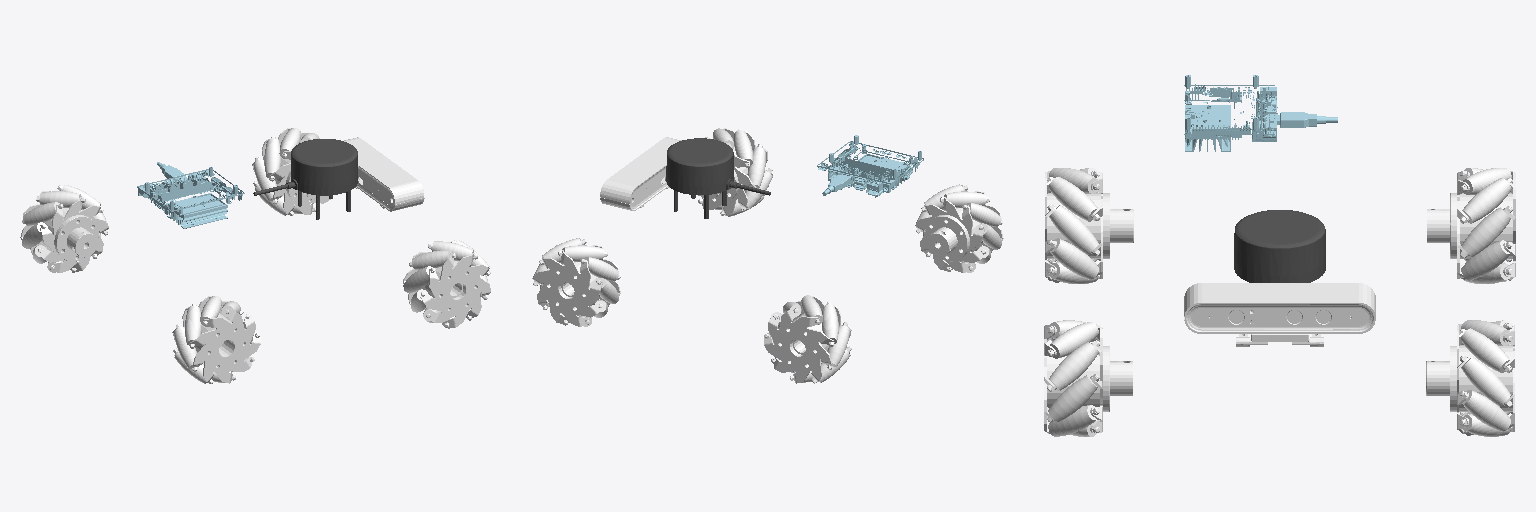
URDF robot description (senior_mec_bs_robot):
<?xml version="1.0" encoding="utf-8"?>
<!-- This URDF was automatically created by SolidWorks to URDF Exporter! Originally created by [author] ([email redacted]) 
     Commit Version: 1.6.0-4-g7f85cfe  Build Version: 1.6.7995.38578
     For more information, please see http://wiki.ros.org/sw_urdf_exporter -->
<robot
  name="senior_mec_bs_robot">
  <link
    name="base_link">
    <inertial>
      <origin
        xyz="-0.0434718540945225 0.00479096721747944 0.0616616740894804"
        rpy="0 0 0" />
      <mass
        value="2.16356623435247" />
      <inertia
        ixx="0.00457530939003441"
        ixy="2.66501329882188E-05"
        ixz="-1.68910168002872E-06"
        iyy="0.00742120437288696"
        iyz="-5.03454173208333E-08"
        izz="0.0114903919776487" />
    </inertial>
    <visual>
      <origin
        xyz="0 0 0"
        rpy="0 0 0" />
      <geometry>
        <mesh
          filename="package://wheeltec_robot_urdf/meshes/senior_mec_bs_robot_meshes/base_link.STL" />
      </geometry>
      <material
        name="">
        <color
          rgba="0.741176470588235 0.901960784313726 0.956862745098039 1" />
      </material>
    </visual>
    <collision>
      <origin
        xyz="0 0 0"
        rpy="0 0 0" />
      <geometry>
        <mesh
          filename="package://wheeltec_robot_urdf/meshes/senior_mec_bs_robot_meshes/base_link.STL" />
      </geometry>
    </collision>
  </link>
  <link
    name="lf_wheel_link">
    <inertial>
      <origin
        xyz="1.87283562189666E-05 -0.00416248539198538 -9.72421313388816E-07"
        rpy="0 0 0" />
      <mass
        value="0.223696874382644" />
      <inertia
        ixx="0.000160822017712014"
        ixy="4.9063134200795E-08"
        ixz="4.63711505038062E-09"
        iyy="0.000252355253681534"
        iyz="1.75497058836953E-08"
        izz="0.000160759030211795" />
    </inertial>
    <visual>
      <origin
        xyz="0 0 0"
        rpy="0 0 0" />
      <geometry>
        <mesh
          filename="package://wheeltec_robot_urdf/meshes/senior_mec_bs_robot_meshes/lf_wheel_link.STL" />
      </geometry>
      <material
        name="">
        <color
          rgba="1 1 1 1" />
      </material>
    </visual>
    <collision>
      <origin
        xyz="0 0 0"
        rpy="0 0 0" />
      <geometry>
        <mesh
          filename="package://wheeltec_robot_urdf/meshes/senior_mec_bs_robot_meshes/lf_wheel_link.STL" />
      </geometry>
    </collision>
  </link>
  <joint
    name="lf_wheel_joint"
    type="continuous">
    <origin
      xyz="0.155173518918731 0.17805920240713 0.025"
      rpy="0 0 0" />
    <parent
      link="base_link" />
    <child
      link="lf_wheel_link" />
    <axis
      xyz="0 -1 0" />
  </joint>
  <link
    name="lb_wheel_link">
    <inertial>
      <origin
        xyz="1.85050521401275E-05 -0.00416308993538386 -2.81809145488698E-06"
        rpy="0 0 0" />
      <mass
        value="0.223697292526722" />
      <inertia
        ixx="0.000160821916551861"
        ixy="4.8211100161235E-08"
        ixz="-7.00970476827432E-10"
        iyy="0.000252352800235012"
        iyz="-2.74095197440563E-08"
        izz="0.000160757657964811" />
    </inertial>
    <visual>
      <origin
        xyz="0 0 0"
        rpy="0 0 0" />
      <geometry>
        <mesh
          filename="package://wheeltec_robot_urdf/meshes/senior_mec_bs_robot_meshes/lb_wheel_link.STL" />
      </geometry>
      <material
        name="">
        <color
          rgba="1 1 1 1" />
      </material>
    </visual>
    <collision>
      <origin
        xyz="0 0 0"
        rpy="0 0 0" />
      <geometry>
        <mesh
          filename="package://wheeltec_robot_urdf/meshes/senior_mec_bs_robot_meshes/lb_wheel_link.STL" />
      </geometry>
    </collision>
  </link>
  <joint
    name="lb_wheel_joint"
    type="continuous">
    <origin
      xyz="-0.157526481081269 0.178360202407132 0.024"
      rpy="0 0 0" />
    <parent
      link="base_link" />
    <child
      link="lb_wheel_link" />
    <axis
      xyz="0 -1 0" />
  </joint>
  <link
    name="rb_wheel_link">
    <inertial>
      <origin
        xyz="1.07987188296688E-05 0.0041382485296827 -1.53996039122806E-05"
        rpy="0 0 0" />
      <mass
        value="0.223696874518015" />
      <inertia
        ixx="0.000160795949860479"
        ixy="-2.80930544656176E-08"
        ixz="-1.27865932842537E-08"
        iyy="0.000252355235947738"
        iyz="5.92345035969955E-08"
        izz="0.00016078507637539" />
    </inertial>
    <visual>
      <origin
        xyz="0 0 0"
        rpy="0 0 0" />
      <geometry>
        <mesh
          filename="package://wheeltec_robot_urdf/meshes/senior_mec_bs_robot_meshes/rb_wheel_link.STL" />
      </geometry>
      <material
        name="">
        <color
          rgba="1 1 1 1" />
      </material>
    </visual>
    <collision>
      <origin
        xyz="0 0 0"
        rpy="0 0 0" />
      <geometry>
        <mesh
          filename="package://wheeltec_robot_urdf/meshes/senior_mec_bs_robot_meshes/rb_wheel_link.STL" />
      </geometry>
    </collision>
  </link>
  <joint
    name="rb_wheel_joint"
    type="continuous">
    <origin
      xyz="-0.157526481081271 -0.176622797592868 0.024"
      rpy="0 0 0" />
    <parent
      link="base_link" />
    <child
      link="rb_wheel_link" />
    <axis
      xyz="0 1 0" />
  </joint>
  <link
    name="rf_wheel_link">
    <inertial>
      <origin
        xyz="1.1882911176736E-05 0.00416310142263798 -1.42606304696924E-05"
        rpy="0 0 0" />
      <mass
        value="0.22369694037604" />
      <inertia
        ixx="0.000160798221326041"
        ixy="-3.18715247149916E-08"
        ixz="-1.48969562101952E-08"
        iyy="0.000252352855565134"
        iyz="5.66304536398535E-08"
        izz="0.000160781418583805" />
    </inertial>
    <visual>
      <origin
        xyz="0 0 0"
        rpy="0 0 0" />
      <geometry>
        <mesh
          filename="package://wheeltec_robot_urdf/meshes/senior_mec_bs_robot_meshes/rf_wheel_link.STL" />
      </geometry>
      <material
        name="">
        <color
          rgba="1 1 1 1" />
      </material>
    </visual>
    <collision>
      <origin
        xyz="0 0 0"
        rpy="0 0 0" />
      <geometry>
        <mesh
          filename="package://wheeltec_robot_urdf/meshes/senior_mec_bs_robot_meshes/rf_wheel_link.STL" />
      </geometry>
    </collision>
  </link>
  <joint
    name="rf_wheel_joint"
    type="continuous">
    <origin
      xyz="0.155174518918729 -0.17712579759287 0.025"
      rpy="0 0 0" />
    <parent
      link="base_link" />
    <child
      link="rf_wheel_link" />
    <axis
      xyz="0 1 0" />
  </joint>
  <link
    name="camera_link">
    <inertial>
      <origin
        xyz="3.37966248681321E-07 -3.48615978326279E-07 1.07624234864379E-07"
        rpy="0 0 0" />
      <mass
        value="0.0559842512080115" />
      <inertia
        ixx="0.000130810959339214"
        ixy="1.20255128206158E-07"
        ixz="1.62335437080103E-06"
        iyy="1.91148634967895E-05"
        iyz="-2.80016755800528E-08"
        izz="0.000131387469523027" />
    </inertial>
    <visual>
      <origin
        xyz="0 0 0"
        rpy="0 0 0" />
      <geometry>
        <mesh
          filename="package://wheeltec_robot_urdf/meshes/senior_mec_bs_robot_meshes/camera_link.STL" />
      </geometry>
      <material
        name="">
        <color
          rgba="1 1 1 1" />
      </material>
    </visual>
    <collision>
      <origin
        xyz="0 0 0"
        rpy="0 0 0" />
      <geometry>
        <mesh
          filename="package://wheeltec_robot_urdf/meshes/senior_mec_bs_robot_meshes/camera_link.STL" />
      </geometry>
    </collision>
  </link>
  <joint
    name="camera_joint"
    type="fixed">
    <origin
      xyz="0.16083451891873 0.000745202407130424 0.089704"
      rpy="0 0 0" />
    <parent
      link="base_link" />
    <child
      link="camera_link" />
    <axis
      xyz="0 0 0" />
  </joint>
  <link
    name="laser_link">
    <inertial>
      <origin
        xyz="0.00239460672176937 -4.36235884714746E-06 0.00454035676139652"
        rpy="0 0 0" />
      <mass
        value="0.0391766918371766" />
      <inertia
        ixx="2.82296075723246E-05"
        ixy="-2.19900347431237E-09"
        ixz="1.07118438616619E-06"
        iyy="3.37984497863101E-05"
        iyz="6.83963576615607E-10"
        izz="4.50920076534761E-05" />
    </inertial>
    <visual>
      <origin
        xyz="0 0 0"
        rpy="0 0 0" />
      <geometry>
        <mesh
          filename="package://wheeltec_robot_urdf/meshes/senior_mec_bs_robot_meshes/laser.STL" />
      </geometry>
      <material
        name="">
        <color
          rgba="0.376470588235294 0.376470588235294 0.376470588235294 1" />
      </material>
    </visual>
    <collision>
      <origin
        xyz="0 0 0"
        rpy="0 0 0" />
      <geometry>
        <mesh
          filename="package://wheeltec_robot_urdf/meshes/senior_mec_bs_robot_meshes/laser.STL" />
      </geometry>
    </collision>
  </link>
  <joint
    name="laser_joint"
    type="fixed">
    <origin
      xyz="0.0911278646206001 0.000667202405493718 0.111024183741431"
      rpy="0 0 3.14159265358979" />
    <parent
      link="base_link" />
    <child
      link="laser_link" />
    <axis
      xyz="0 0 0" />
  </joint>
  <link
    name="controller_link">
    <inertial>
      <origin
        xyz="-0.0345544164547887 0.0884587575058604 -0.00475090869119181"
        rpy="0 0 0" />
      <mass
        value="0.00500280353665618" />
      <inertia
        ixx="5.5683668655799E-07"
        ixy="-4.85741212386078E-14"
        ixz="-5.07877537957038E-15"
        iyy="9.8382415075769E-08"
        iyz="3.20815042510521E-14"
        izz="6.06554886179191E-07" />
    </inertial>
    <visual>
      <origin
        xyz="0 0 0"
        rpy="0 0 0" />
      <geometry>
        <mesh
          filename="package://wheeltec_robot_urdf/meshes/senior_mec_bs_robot_meshes/controller_link.STL" />
      </geometry>
      <material
        name="">
        <color
          rgba="0.741176470588235 0.901960784313726 0.956862745098039 1" />
      </material>
    </visual>
    <collision>
      <origin
        xyz="0 0 0"
        rpy="0 0 0" />
      <geometry>
        <mesh
          filename="package://wheeltec_robot_urdf/meshes/senior_mec_bs_robot_meshes/controller_link.STL" />
      </geometry>
    </collision>
  </link>
  <joint
    name="controller_joint"
    type="fixed">
    <origin
      xyz="-0.072154314146756 -0.0796936307243407 0.155"
      rpy="0 0 0" />
    <parent
      link="base_link" />
    <child
      link="controller_link" />
    <axis
      xyz="0 0 0" />
  </joint>
</robot>

--- What the picture shows (computed from the rendered views, not written in the file) ---
3 views of the same robot in one strip: view 1: azimuth 30°, elevation 25°; view 2: azimuth 150°, elevation 25°; view 3: azimuth 270°, elevation 25° (orthographic).
Robot: senior_mec_bs_robot — 8 links, 7 joints (4 continuous, 3 fixed); root link base_link; default pose: all joints at 0.
Links seen in each view (by area): view 1: rb_wheel_link, rf_wheel_link, lb_wheel_link, laser_link, controller_link, lf_wheel_link, camera_link; view 2: lb_wheel_link, lf_wheel_link, rb_wheel_link, laser_link, controller_link, rf_wheel_link, camera_link; view 3: camera_link, rf_wheel_link, lf_wheel_link, lb_wheel_link, rb_wheel_link, laser_link, controller_link.
Boxes of the visible links, x1,y1,x2,y2 form: rb_wheel_link: (172,296,260,383); rf_wheel_link: (403,240,490,328); lb_wheel_link: (20,185,108,272); laser_link: (253,139,357,219); controller_link: (137,162,244,228); lf_wheel_link: (252,128,330,215); camera_link: (344,137,424,211); lb_wheel_link: (764,295,851,383); lf_wheel_link: (532,238,620,326); rb_wheel_link: (915,184,1003,272); laser_link: (666,138,770,218); controller_link: (817,135,923,197); rf_wheel_link: (698,128,772,216); camera_link: (600,137,681,210); camera_link: (1184,283,1375,346); rf_wheel_link: (1044,320,1132,436); lf_wheel_link: (1426,320,1514,436); lb_wheel_link: (1427,168,1515,283); rb_wheel_link: (1045,168,1133,283); laser_link: (1234,210,1325,282); controller_link: (1184,75,1337,151).
Bounding box of the posed robot: 0.4133 × 0.4053 × 0.1913 m (x, y, z).
7 mesh visuals loaded from 8 distinct referenced files (7 binary STL); not drawn: 1 (reference not matched to a file when rendering).